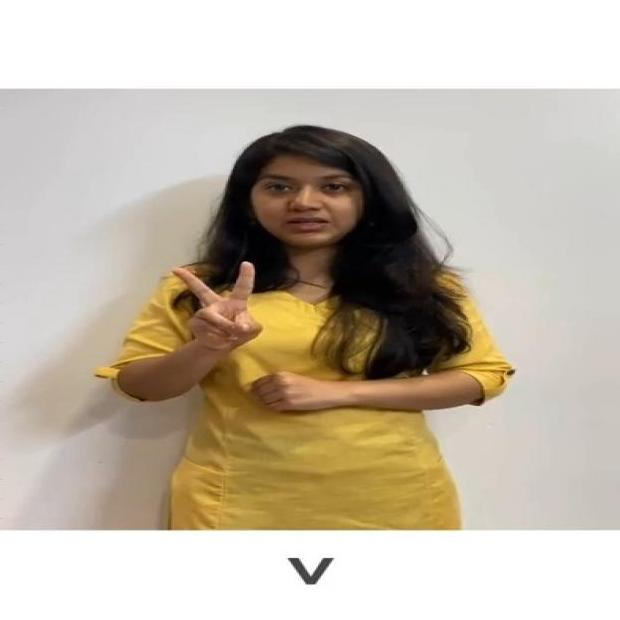U: (162, 254, 273, 343)
